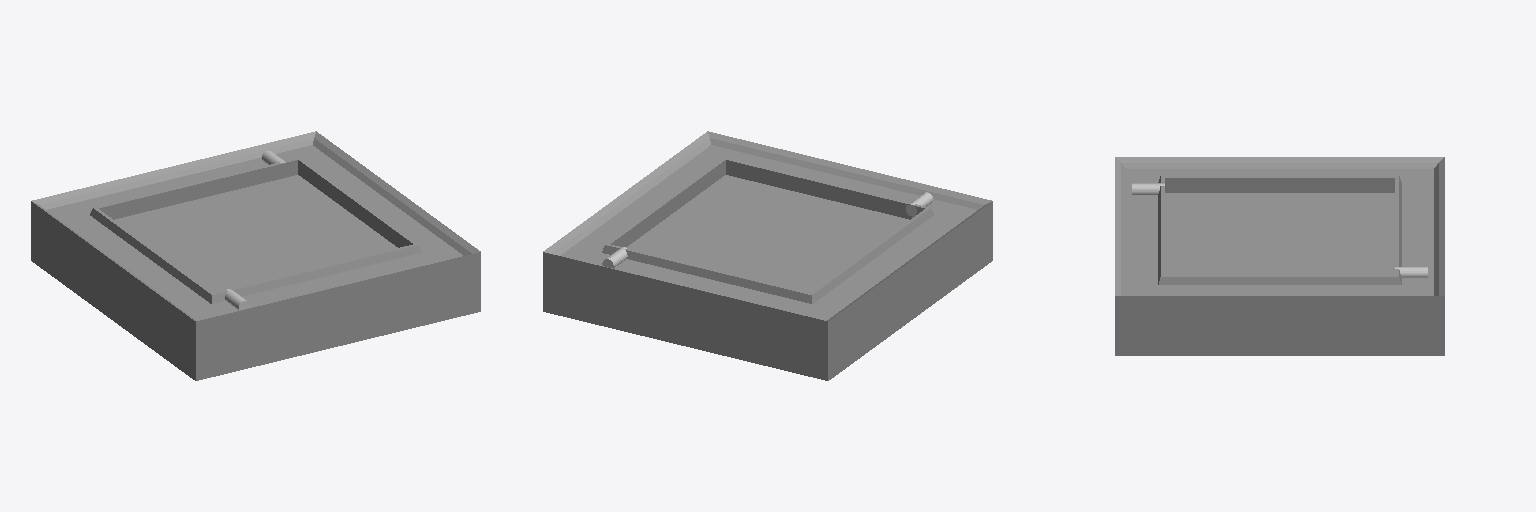
File: puzzle_frame.obj
The picture shows the model from 3 angles: view 1: azimuth 30°, elevation 25°; view 2: azimuth 150°, elevation 25°; view 3: azimuth 270°, elevation 25°; orthographic projection.
Parts seen in each view (by area): view 1: Cube; view 2: Cube; view 3: Cube.
Boxes of the visible parts, box(x1,y1,x2,y2) form: Cube: box(31, 131, 480, 380); Cube: box(543, 131, 992, 380); Cube: box(1115, 157, 1444, 355).
Bounding box in the file's own units: 1 × 0.2019 × 1.